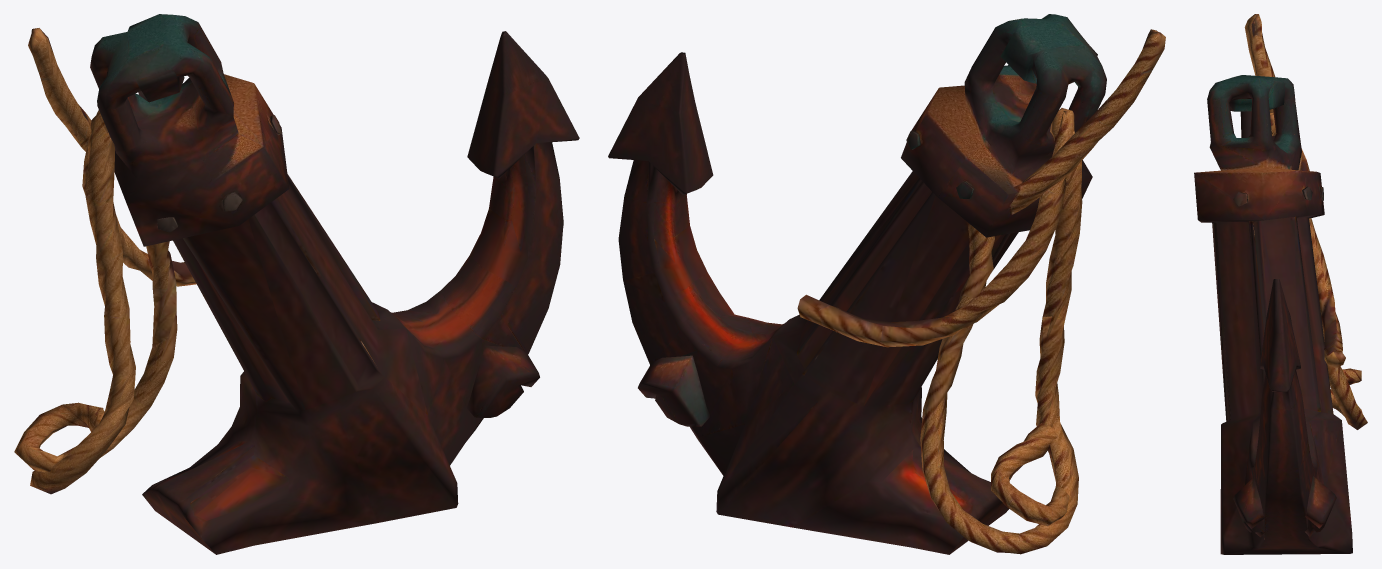
File: anchor.glb
The picture shows the model from 3 angles, left to right: view 1: azimuth 30°, elevation 25°; view 2: azimuth 150°, elevation 25°; view 3: azimuth 270°, elevation 25°; orthographic projection. The views are drawn at different scales.
Bounding box in the file's own units: 0.9604 × 0.914 × 0.3584.
1 material, 1 textured.
